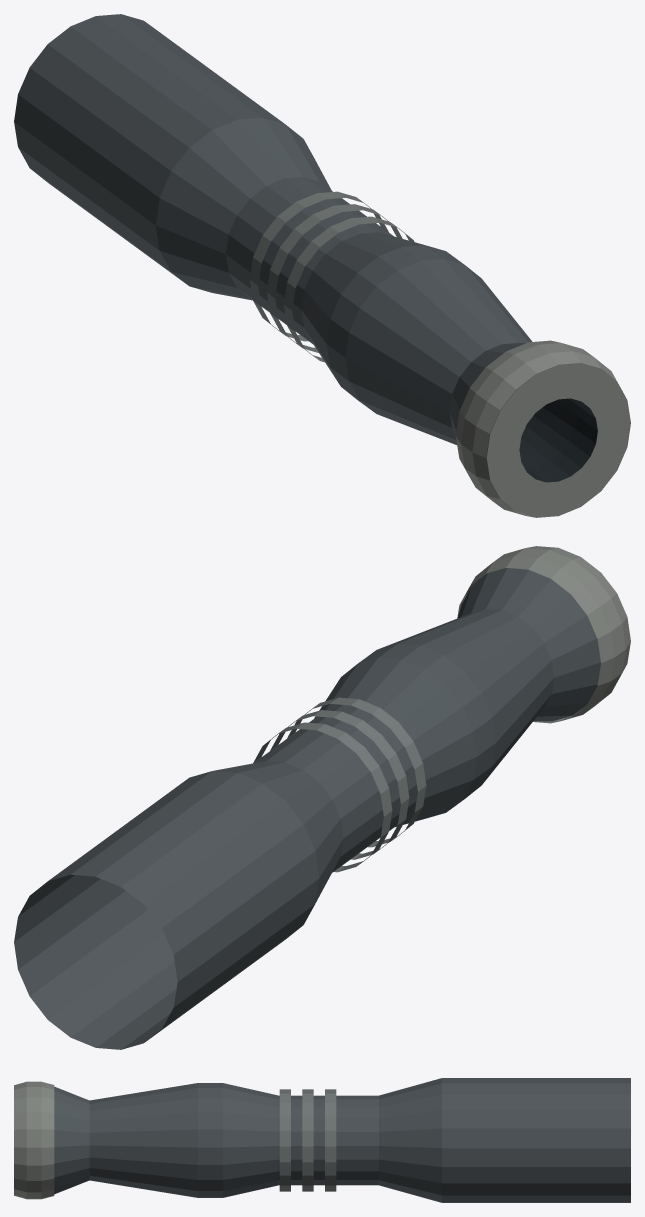
Rendered from SiegeTurretSingleBarrel.obj.
The picture shows the model from 3 angles, top to bottom: view 1: azimuth 30°, elevation 25°; view 2: azimuth 150°, elevation 25°; view 3: azimuth 270°, elevation 25°; orthographic projection. The views are drawn at different scales.
Parts seen in each view (by area): view 1: SiegeTurretSingleBarrel; view 2: SiegeTurretSingleBarrel; view 3: SiegeTurretSingleBarrel.
Boxes of the visible parts, bbox=[...] form: SiegeTurretSingleBarrel: bbox=[14, 14, 630, 517]; SiegeTurretSingleBarrel: bbox=[14, 546, 630, 1049]; SiegeTurretSingleBarrel: bbox=[14, 1078, 630, 1202].
Bounding box in the file's own units: 0.5 × 0.5 × 2.45.
Materials: 1 (1 with a texture image).
